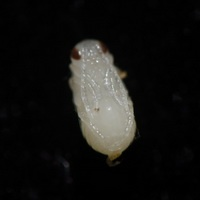insect: (69, 39, 135, 164)
